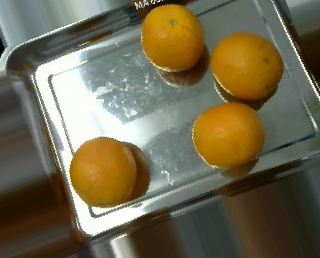Orange: (211, 29, 284, 101), (191, 101, 265, 168), (69, 137, 137, 208), (139, 4, 204, 72)
